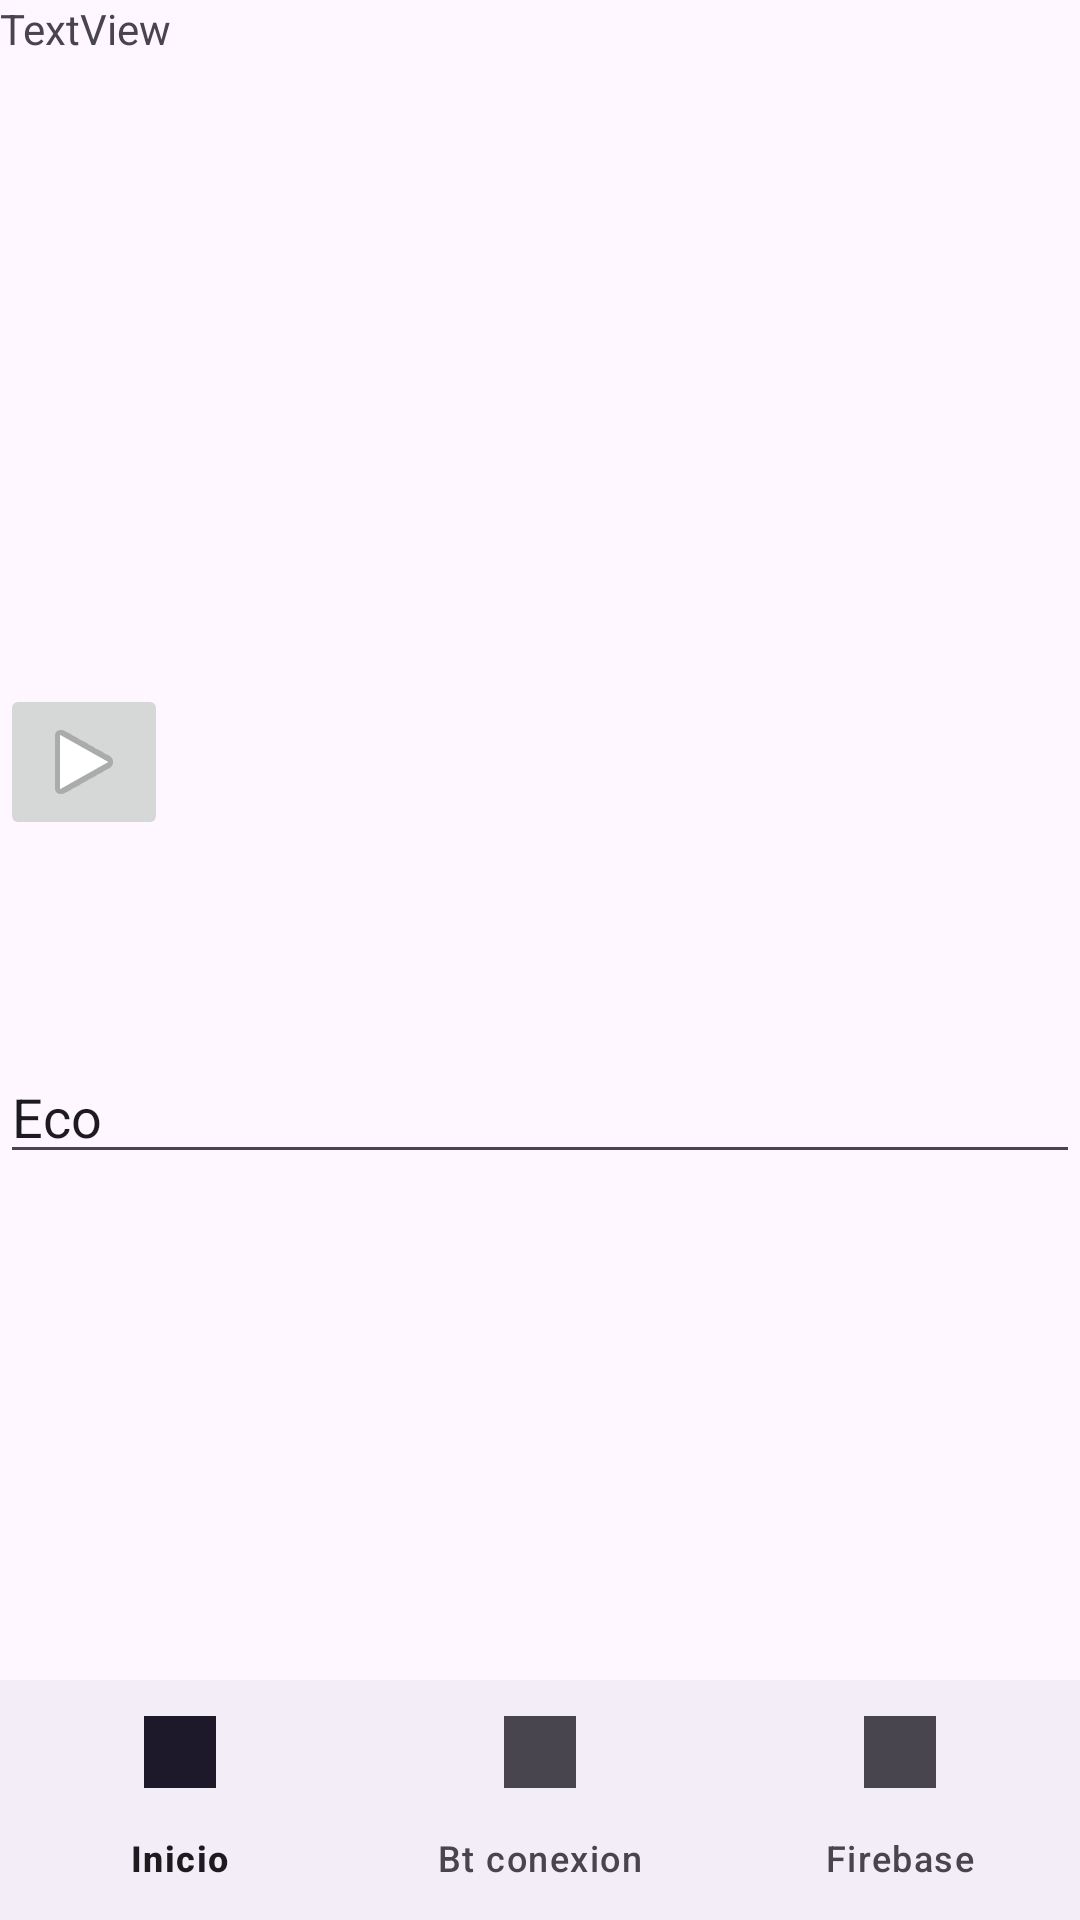

Where icons sit on this 1080 x 1920 app screen, as [x1,y1,x2,y2]:
play: [12,702,156,822]
